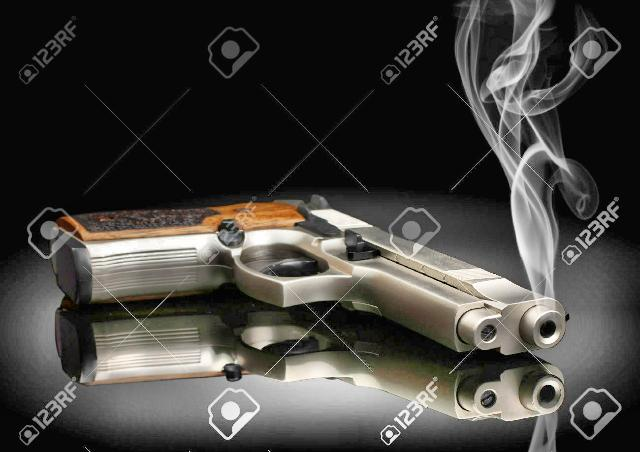pistol: (51, 194, 565, 356)
